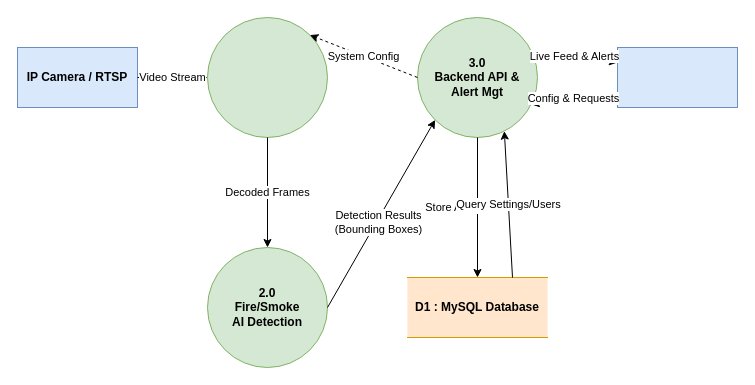
The diagram is 755 pixels wide and 385 high, and some of its shapes have lost their labels. Here are the shapes that lost their labels. From the top down, the centre of each, then its label:
point 267,77: 1.0 Stream Ingestion (Camera Manager)
point 677,77: Administrator / User
